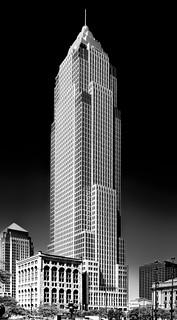building: (47, 20, 130, 316), (1, 221, 36, 315)
